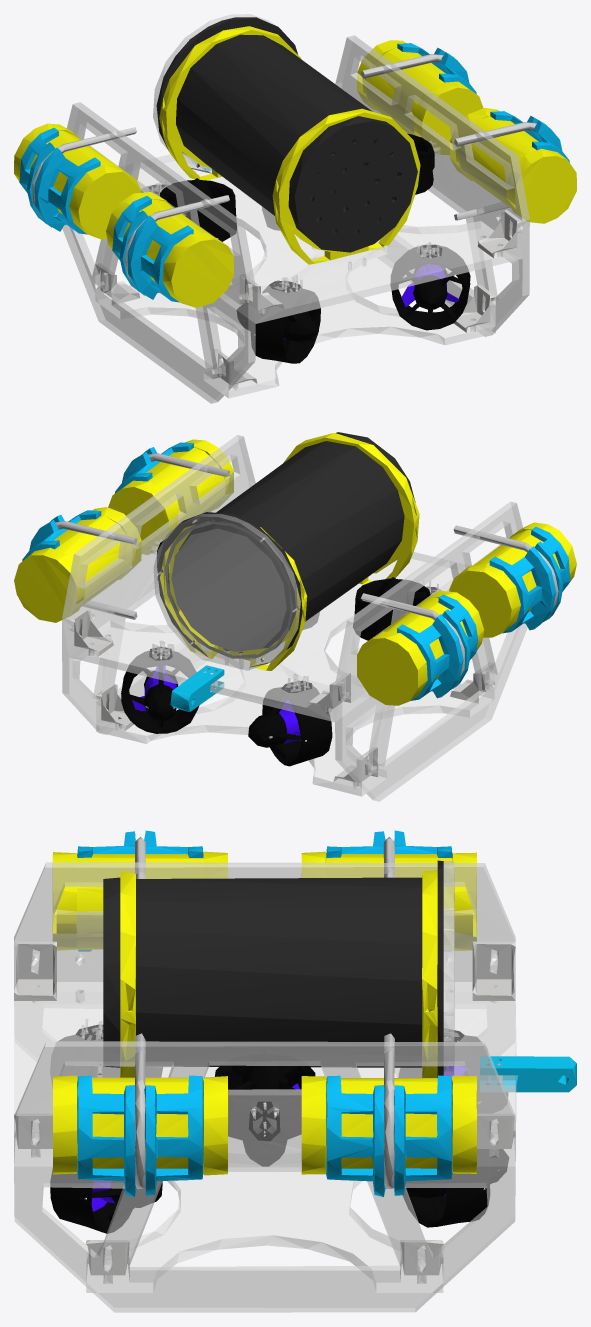
File: rov.glb
3 views of the same model, one above another, from view 1: azimuth 30°, elevation 25°; view 2: azimuth 150°, elevation 25°; view 3: azimuth 270°, elevation 25° (orthographic). The views are drawn at different scales.
Visible parts, largest first — view 1: lowres; view 2: lowres; view 3: lowres.
Boxes of the visible parts, x1,y1,x2,y2 form: lowres: (14, 14, 576, 403); lowres: (14, 432, 576, 801); lowres: (14, 830, 576, 1312).
Bounding box in the file's own units: 0.2375 × 0.1363 × 0.1988.
